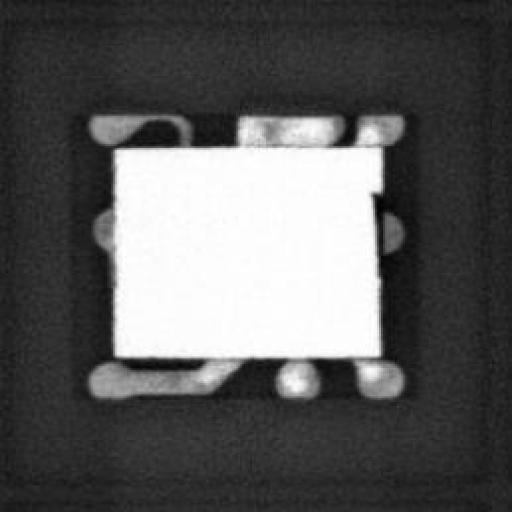DIE_BROKEN: (365, 186, 385, 280)
